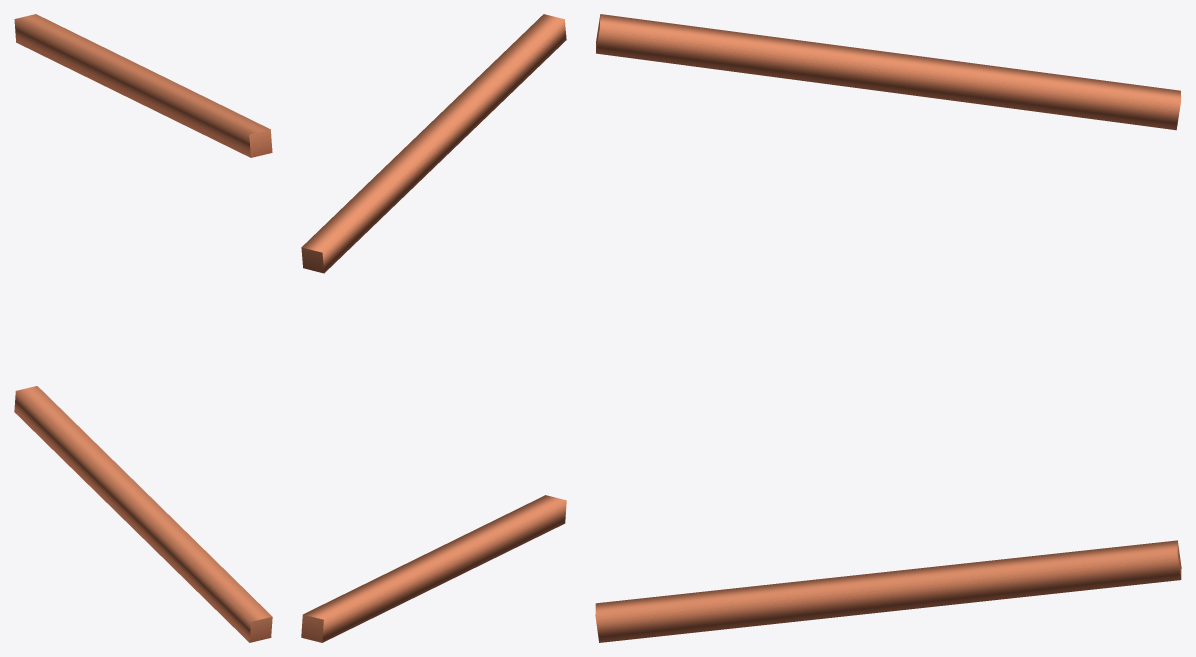
The model's file is sail-a.007_lev2.glb.
3 views of the same model, side by side, from view 1: azimuth 30°, elevation 25°; view 2: azimuth 150°, elevation 25°; view 3: azimuth 270°, elevation 25° (orthographic). The views are drawn at different scales.
Visible parts, largest first — view 1: sail-a.007_lev2; view 2: sail-a.007_lev2; view 3: sail-a.007_lev2.
Part boxes in pixels (x1,y1,x2,y2): sail-a.007_lev2: [14, 14, 272, 642]; sail-a.007_lev2: [301, 14, 566, 642]; sail-a.007_lev2: [595, 14, 1181, 642].
Size of the model in its own units: 0.2744 by 5.1 by 4.4.
1 material, 1 textured.
